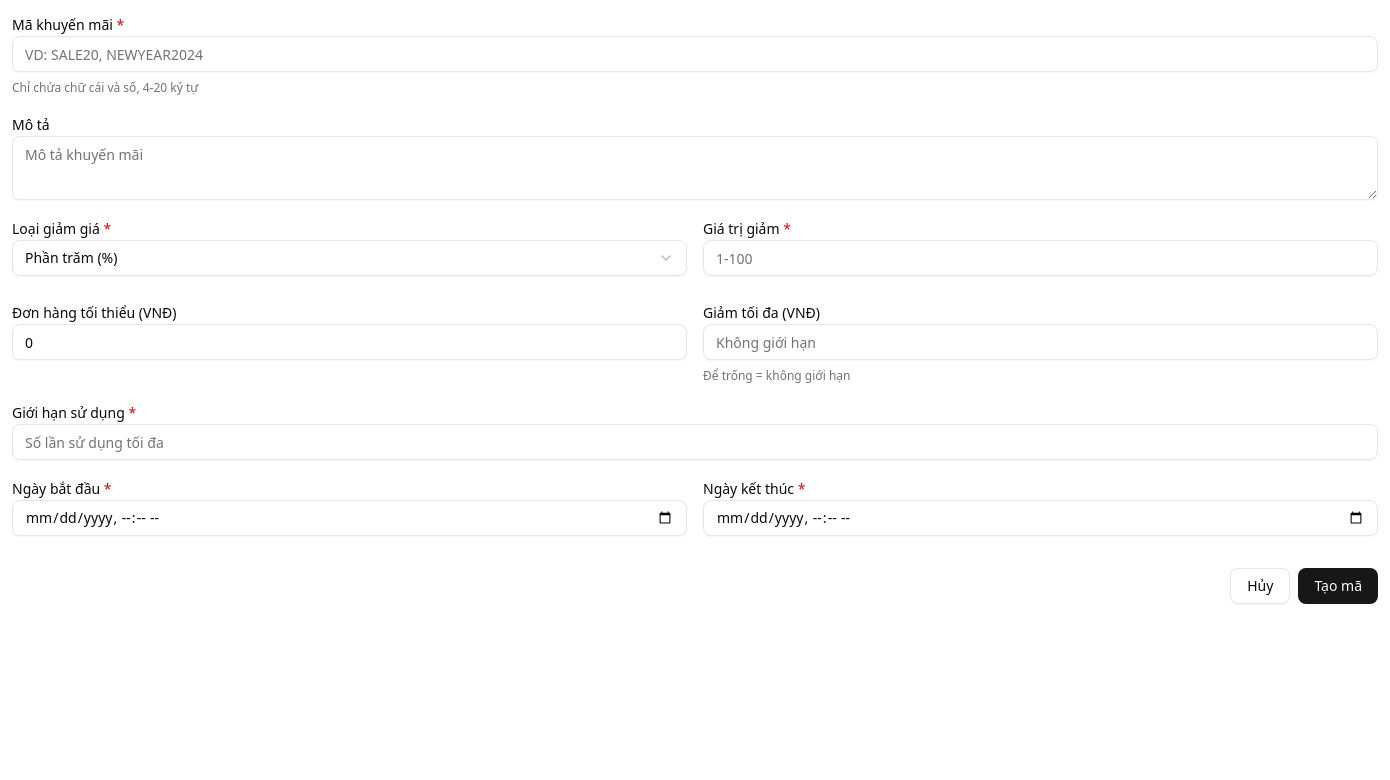
it: Wave4B-2 G-A — PromotionForm (M03, S05, S06) › connects validation errors and always links helper text (S06)
Step 1. Click the button "Tạo mã" → x=1338, y=586, box left=1298, top=568, right=1378, bottom=604
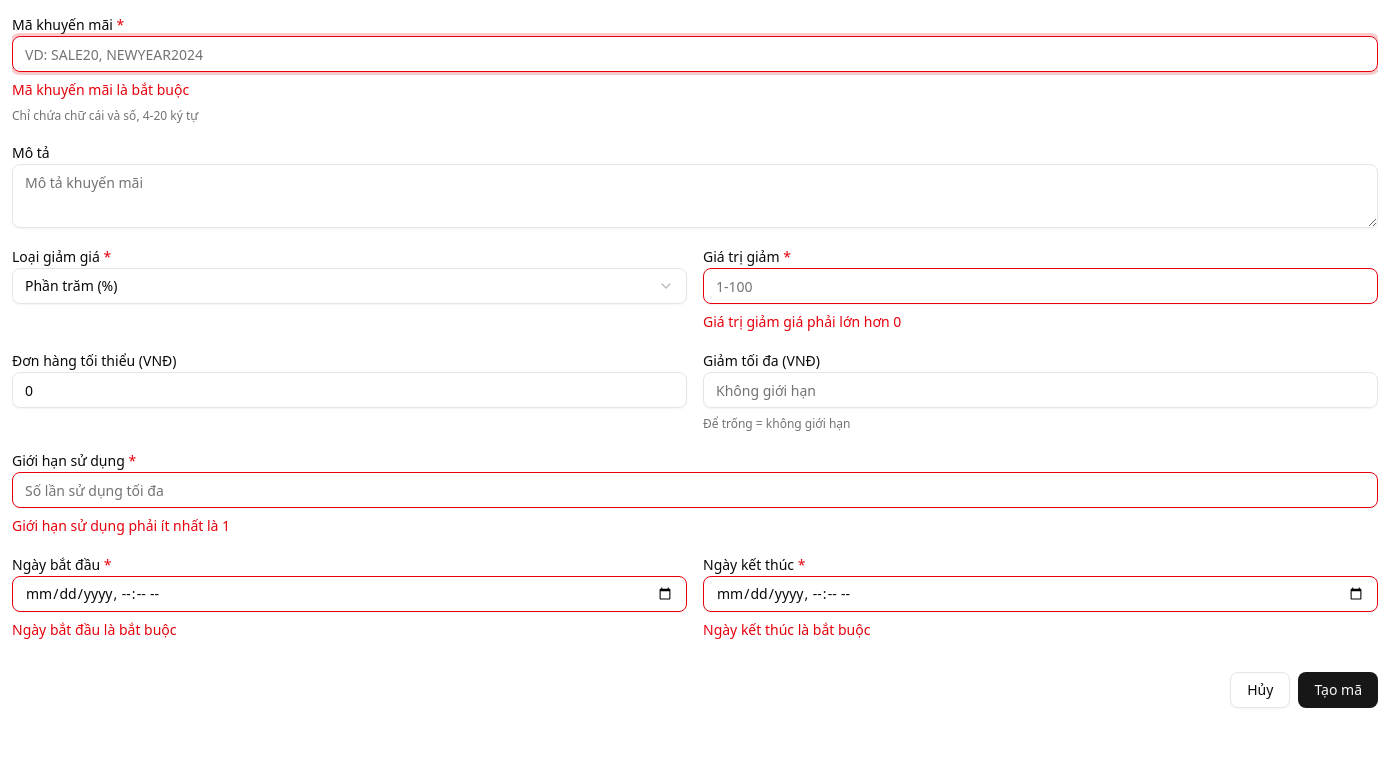
Result: the message "Mã khuyến mãi là bắt buộc" is shown at left=12, top=80, right=189, bottom=99
